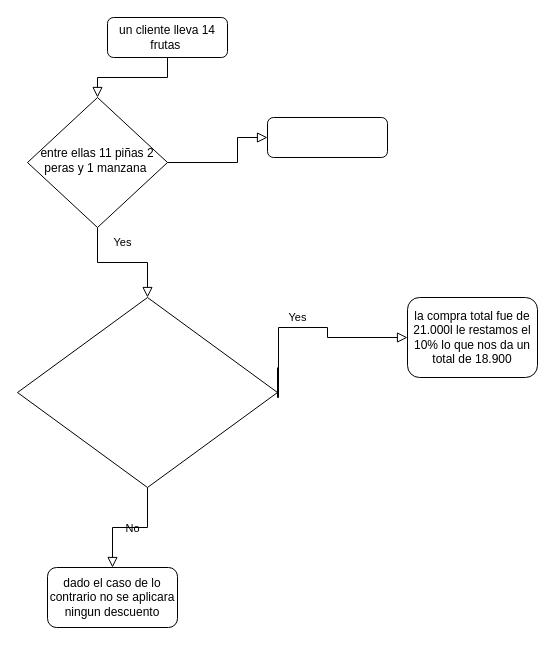
The diagram is 555 pixels wide and 645 high, and some of its shapes have lost their labels. Each missing label, with the box of its shape:
dado que la compra pasa a mas de 20.000 se le aplica un descuento de 10%: (16, 296, 278, 488)
lo cual nos da un valor de 21.000: (266, 116, 388, 158)
